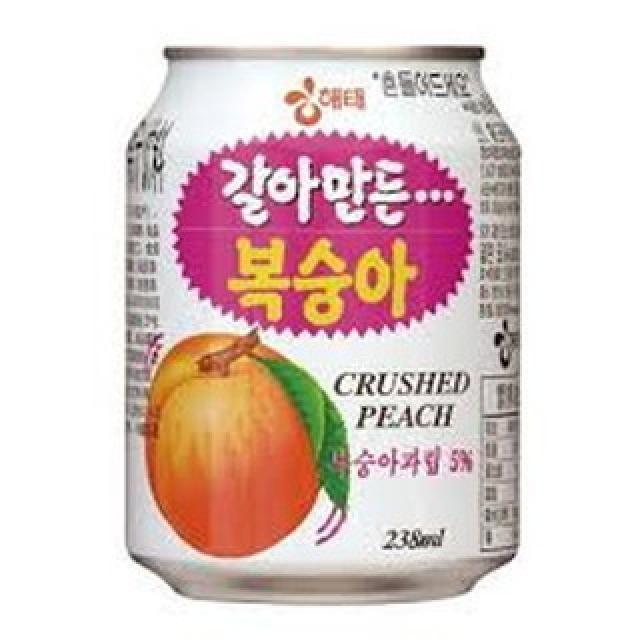can: (123, 42, 523, 608)
